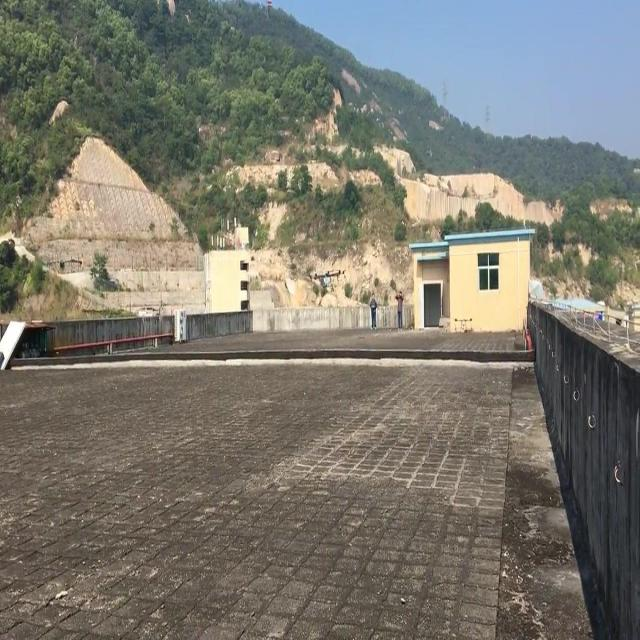UAV: (308, 270, 346, 292)
